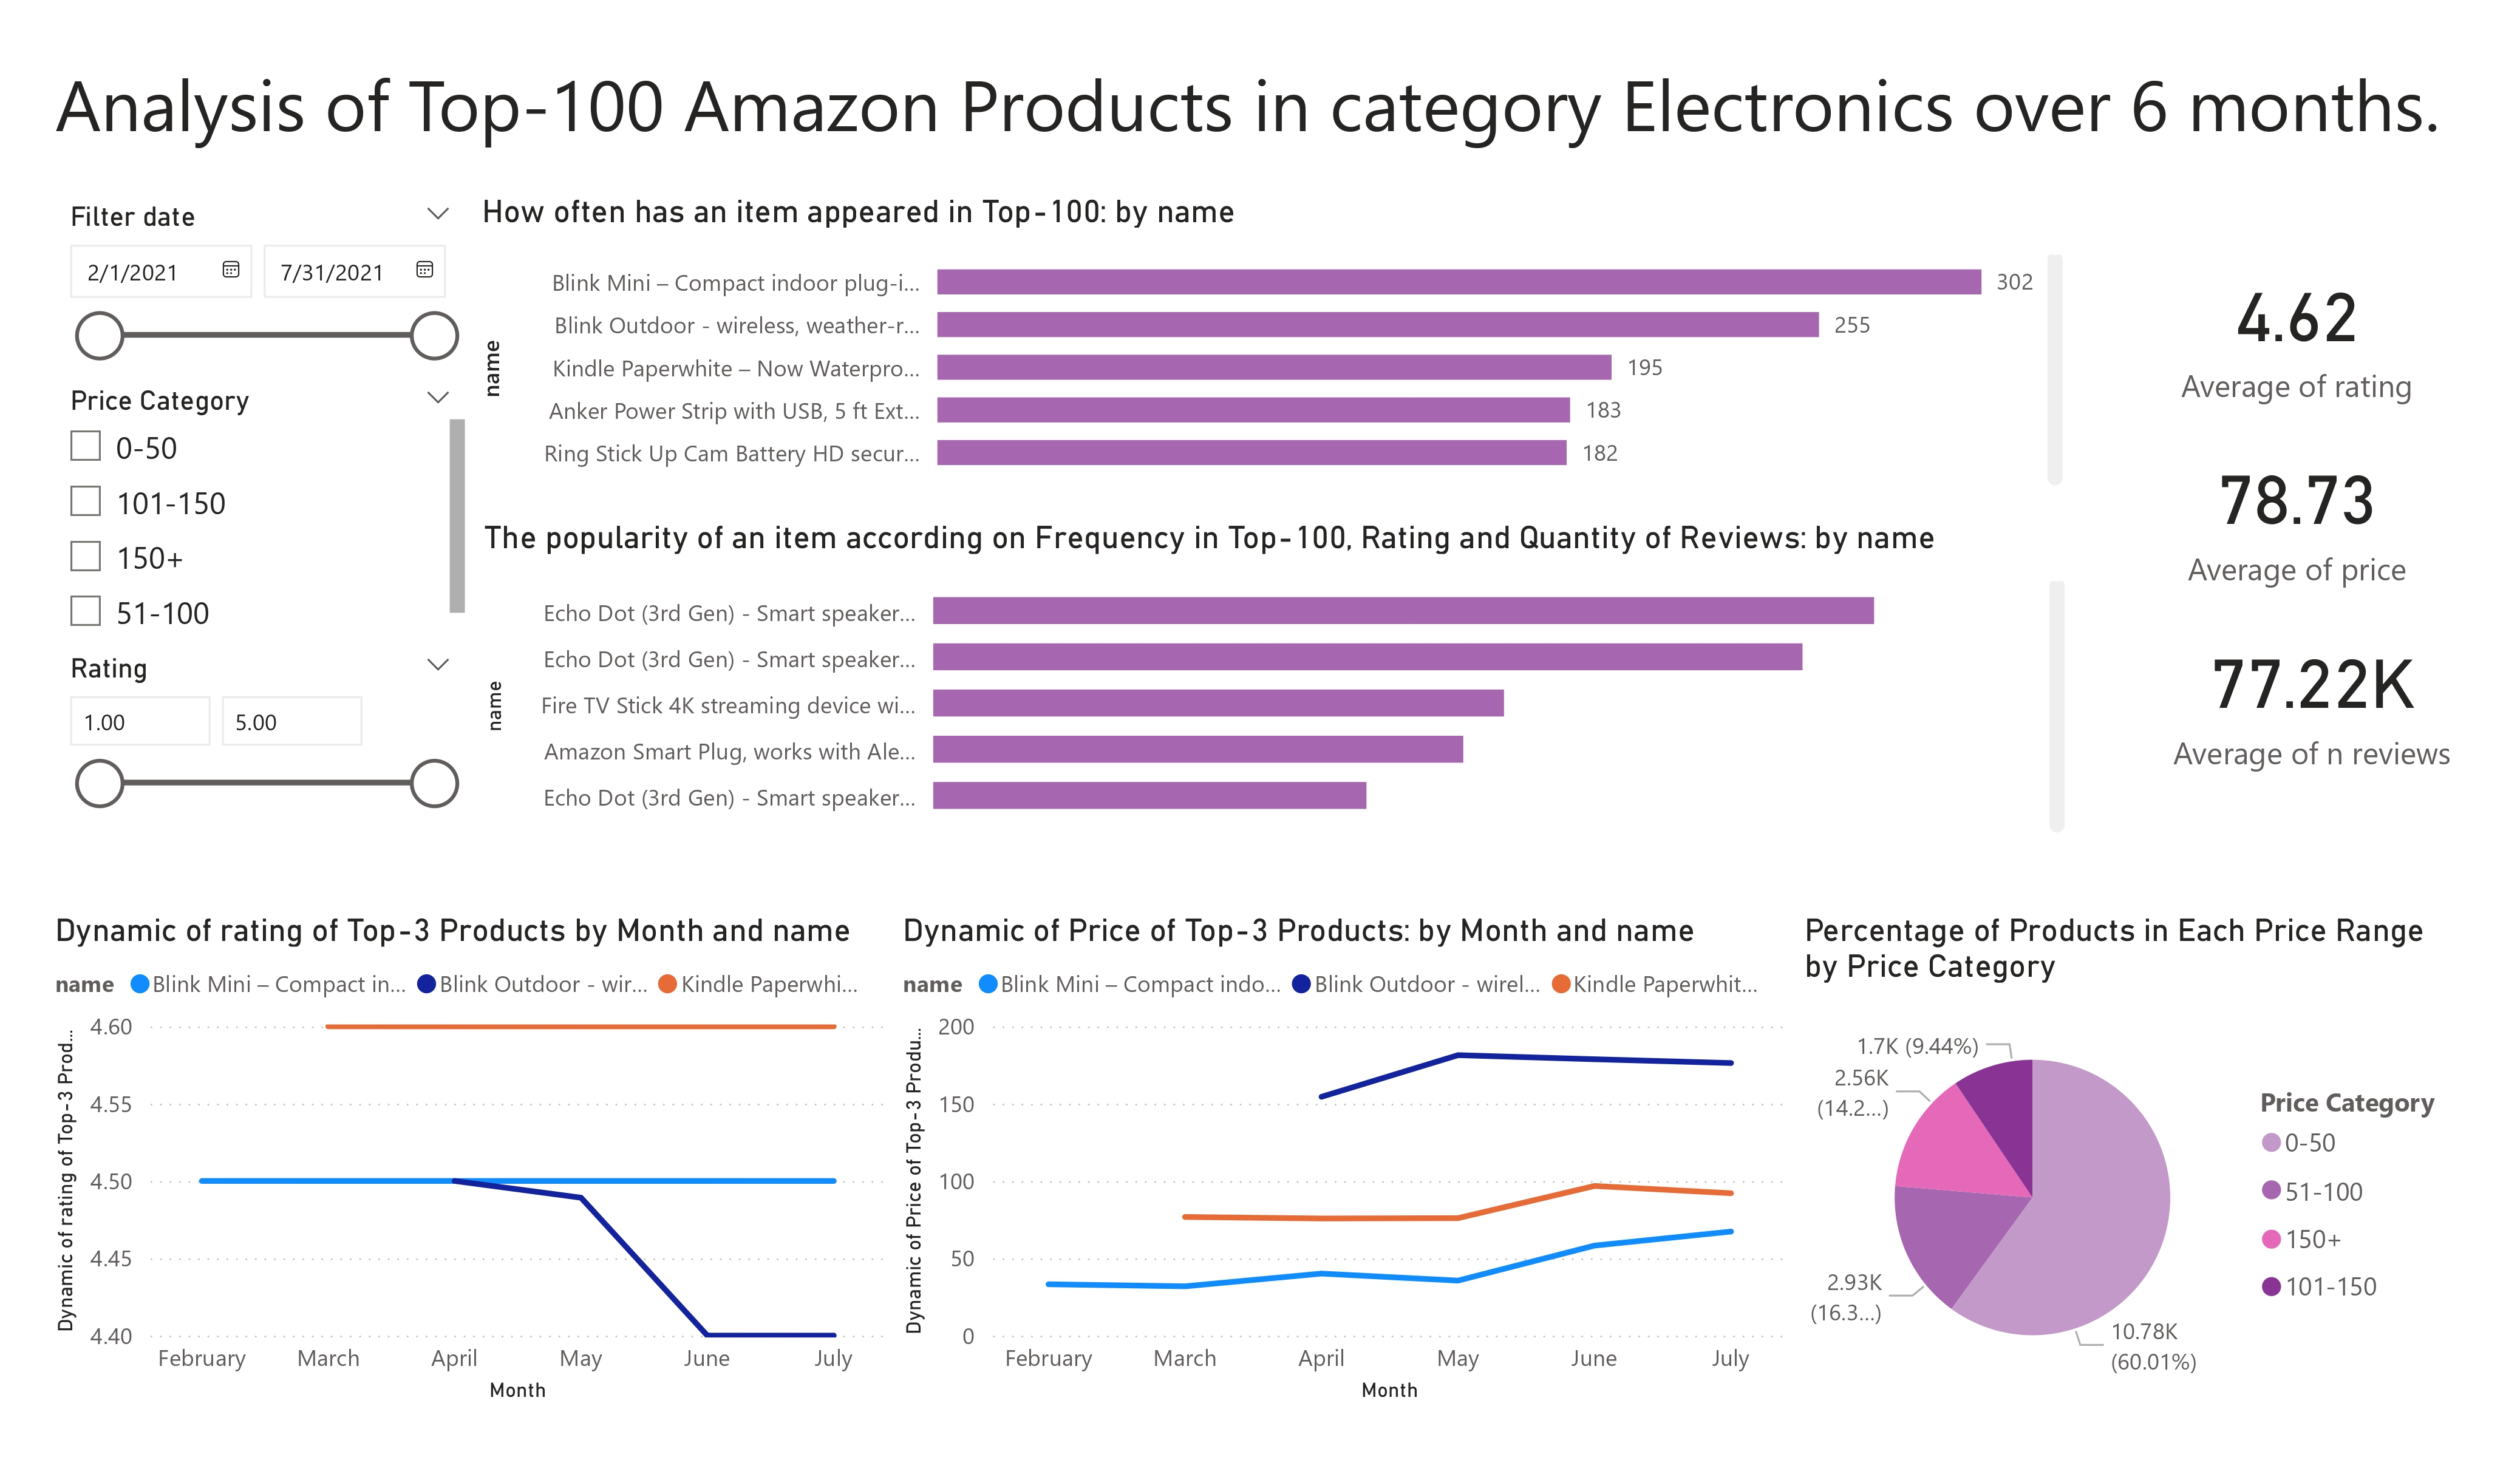

This screenshot's page, from the dashboard's own definition file:
{"tool":"powerbi","page":{"name":"Page 1","canvas":[1280,720],"ordinal":0},"visuals":[{"type":"card","fields":{"Values":["Avg(electronics_data.rating)"]},"box":[1092.9,104.3,187.1,92.9],"z":0},{"type":"slicer","fields":{"Values":["electronics_data.date"]},"box":[0,77.1,225.7,174.3],"z":1000},{"type":"clusteredBarChart","fields":{"Category":["electronics_data.name"],"Y":["electronics_data.Frequency"]},"box":[225,76.7,843.3,160],"z":2000},{"type":"textbox","box":[0,0,1280,75],"z":3000},{"type":"clusteredBarChart","fields":{"Y":["Sum(electronics_data.CombinedScore1)"],"Category":["electronics_data.name"]},"box":[225.7,248.6,842.9,171.4],"z":4000},{"type":"card","fields":{"Values":["Avg(electronics_data.price)"]},"box":[1092.9,197.1,187.1,100],"z":5000},{"type":"card","fields":{"Values":["Avg(electronics_data.n_reviews)"]},"box":[1108.6,297.1,171.4,94.3],"z":6000},{"type":"pieChart","fields":{"Category":["electronics_data.Price Category"],"Y":["CountNonNull(electronics_data.Price Category)"]},"box":[922.1,455.6,358.1,264.8],"z":7000},{"type":"lineChart","fields":{"Category":["electronics_data.date.Variation.Date Hierarchy.Month"],"Y":["Avg(electronics_data.price)"],"Series":["electronics_data.name"]},"box":[447.3,455.6,474.8,264.8],"z":8000},{"type":"slicer","fields":{"Values":["electronics_data.Price Category"]},"box":[0,174.3,225.7,141.4],"z":9000},{"type":"slicer","fields":{"Values":["electronics_data.rating"]},"box":[0,315,226,150],"z":10000},{"type":"lineChart","fields":{"Category":["electronics_data.date.Variation.Date Hierarchy.Month"],"Y":["Avg(electronics_data.rating)"],"Series":["electronics_data.name"]},"box":[0,455.6,447.3,264.8],"z":11000}]}

Visuals, with their boxes in screenshot pixels (x1, y1, x2, y2):
card - Avg(electronics_data.rating): left=2119, top=243, right=2474, bottom=419
slicer - electronics_data.date: left=46, top=192, right=474, bottom=523
clusteredBarChart - electronics_data.name x electronics_data.Frequency: left=472, top=191, right=2072, bottom=495
textbox: left=46, top=46, right=2474, bottom=188
clusteredBarChart - Sum(electronics_data.CombinedScore1) x electronics_data.name: left=474, top=517, right=2073, bottom=843
card - Avg(electronics_data.price): left=2119, top=419, right=2474, bottom=609
card - Avg(electronics_data.n_reviews): left=2149, top=609, right=2474, bottom=788
pieChart - electronics_data.Price Category x CountNonNull(electronics_data.Price Category): left=1796, top=910, right=2474, bottom=1411
lineChart - electronics_data.date.Variation.Date Hierarchy.Month x Avg(electronics_data.price): left=894, top=910, right=1796, bottom=1411
slicer - electronics_data.Price Category: left=46, top=376, right=474, bottom=645
slicer - electronics_data.rating: left=46, top=643, right=474, bottom=928
lineChart - electronics_data.date.Variation.Date Hierarchy.Month x Avg(electronics_data.rating): left=46, top=910, right=894, bottom=1411
